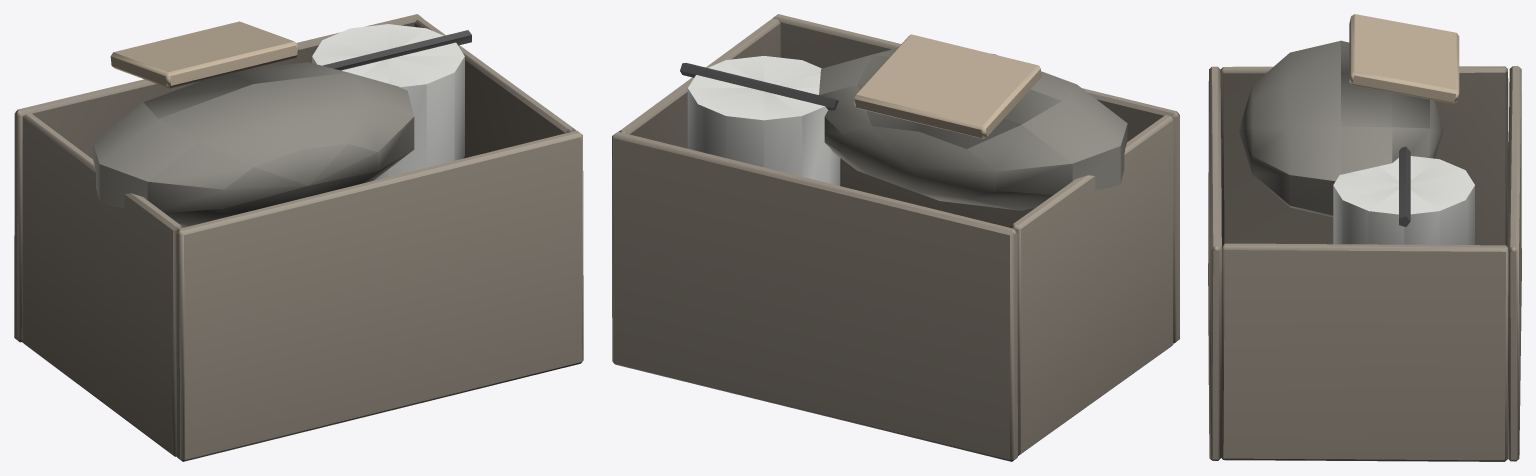
The model's file is belongings_box.glb.
3 renders of one model, left to right at view 1: azimuth 30°, elevation 25°; view 2: azimuth 150°, elevation 25°; view 3: azimuth 270°, elevation 25°, orthographic. The views are drawn at different scales.
Visible parts, largest first — view 1: static; view 2: static; view 3: static.
Part boxes in pixels (left/top/right/bottom): static: left=14, top=14, right=583, bottom=461; static: left=612, top=14, right=1179, bottom=461; static: left=1208, top=14, right=1521, bottom=461.
Size of the model in its own units: 0.5645 by 0.4139 by 0.398.
